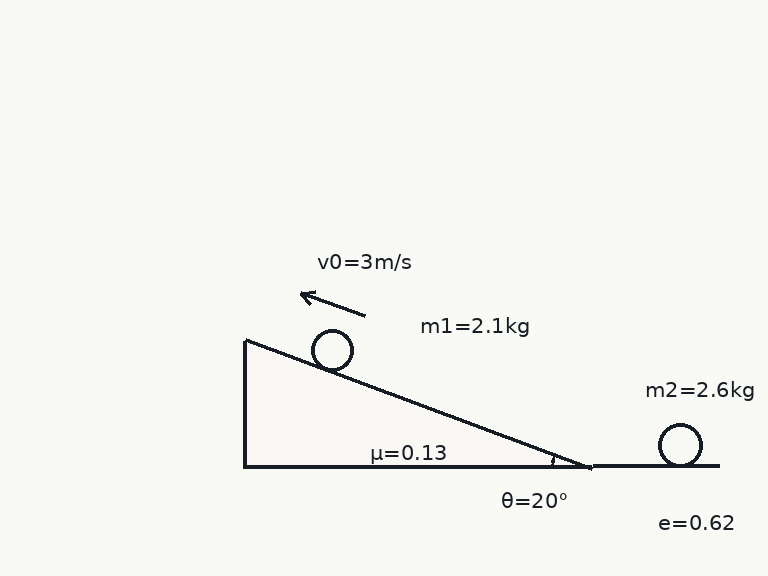ball: (656, 421, 704, 469), (309, 327, 355, 373)
ramp: (243, 339, 594, 469)
